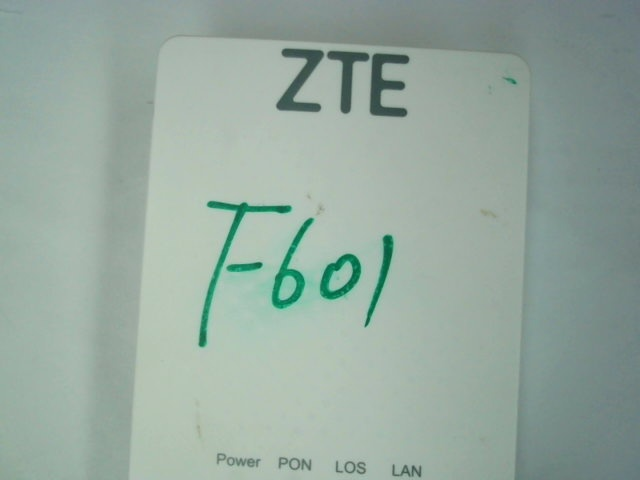AN_ZTE: (273, 44, 416, 121)
